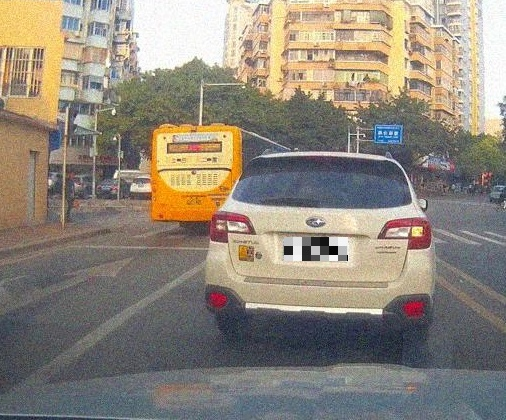L_light: (209, 211, 257, 244)
R_light: (377, 217, 432, 251)
T_light: (306, 155, 339, 161)
day-right: (205, 152, 435, 349)
plate_1: (284, 237, 348, 261)
